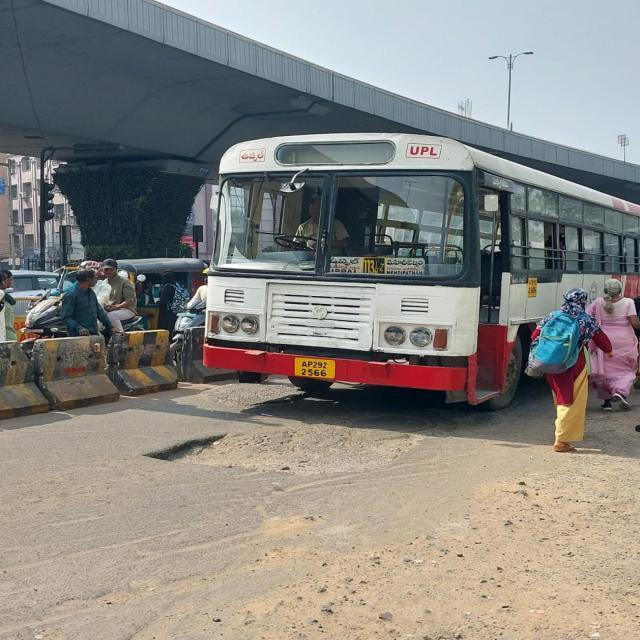Bus: (197, 124, 640, 416)
